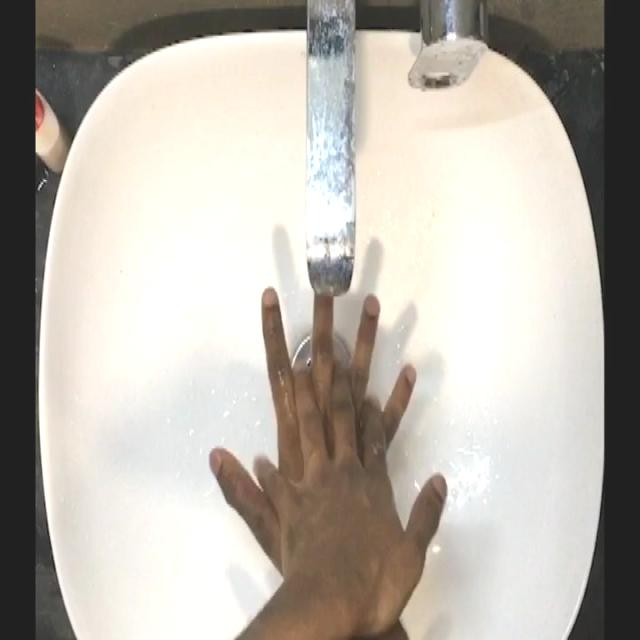step_2: (210, 270, 443, 592)
